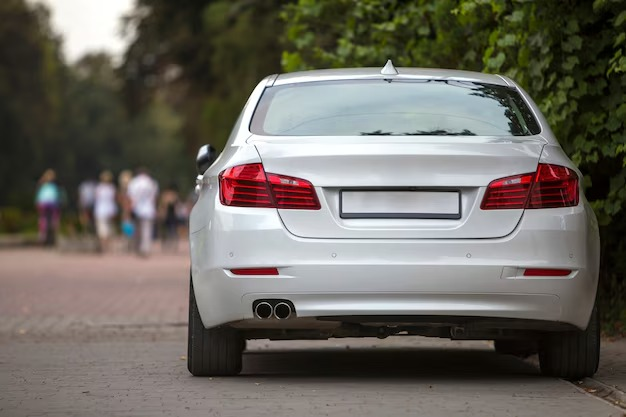car: (174, 69, 602, 384), (174, 70, 602, 382)
